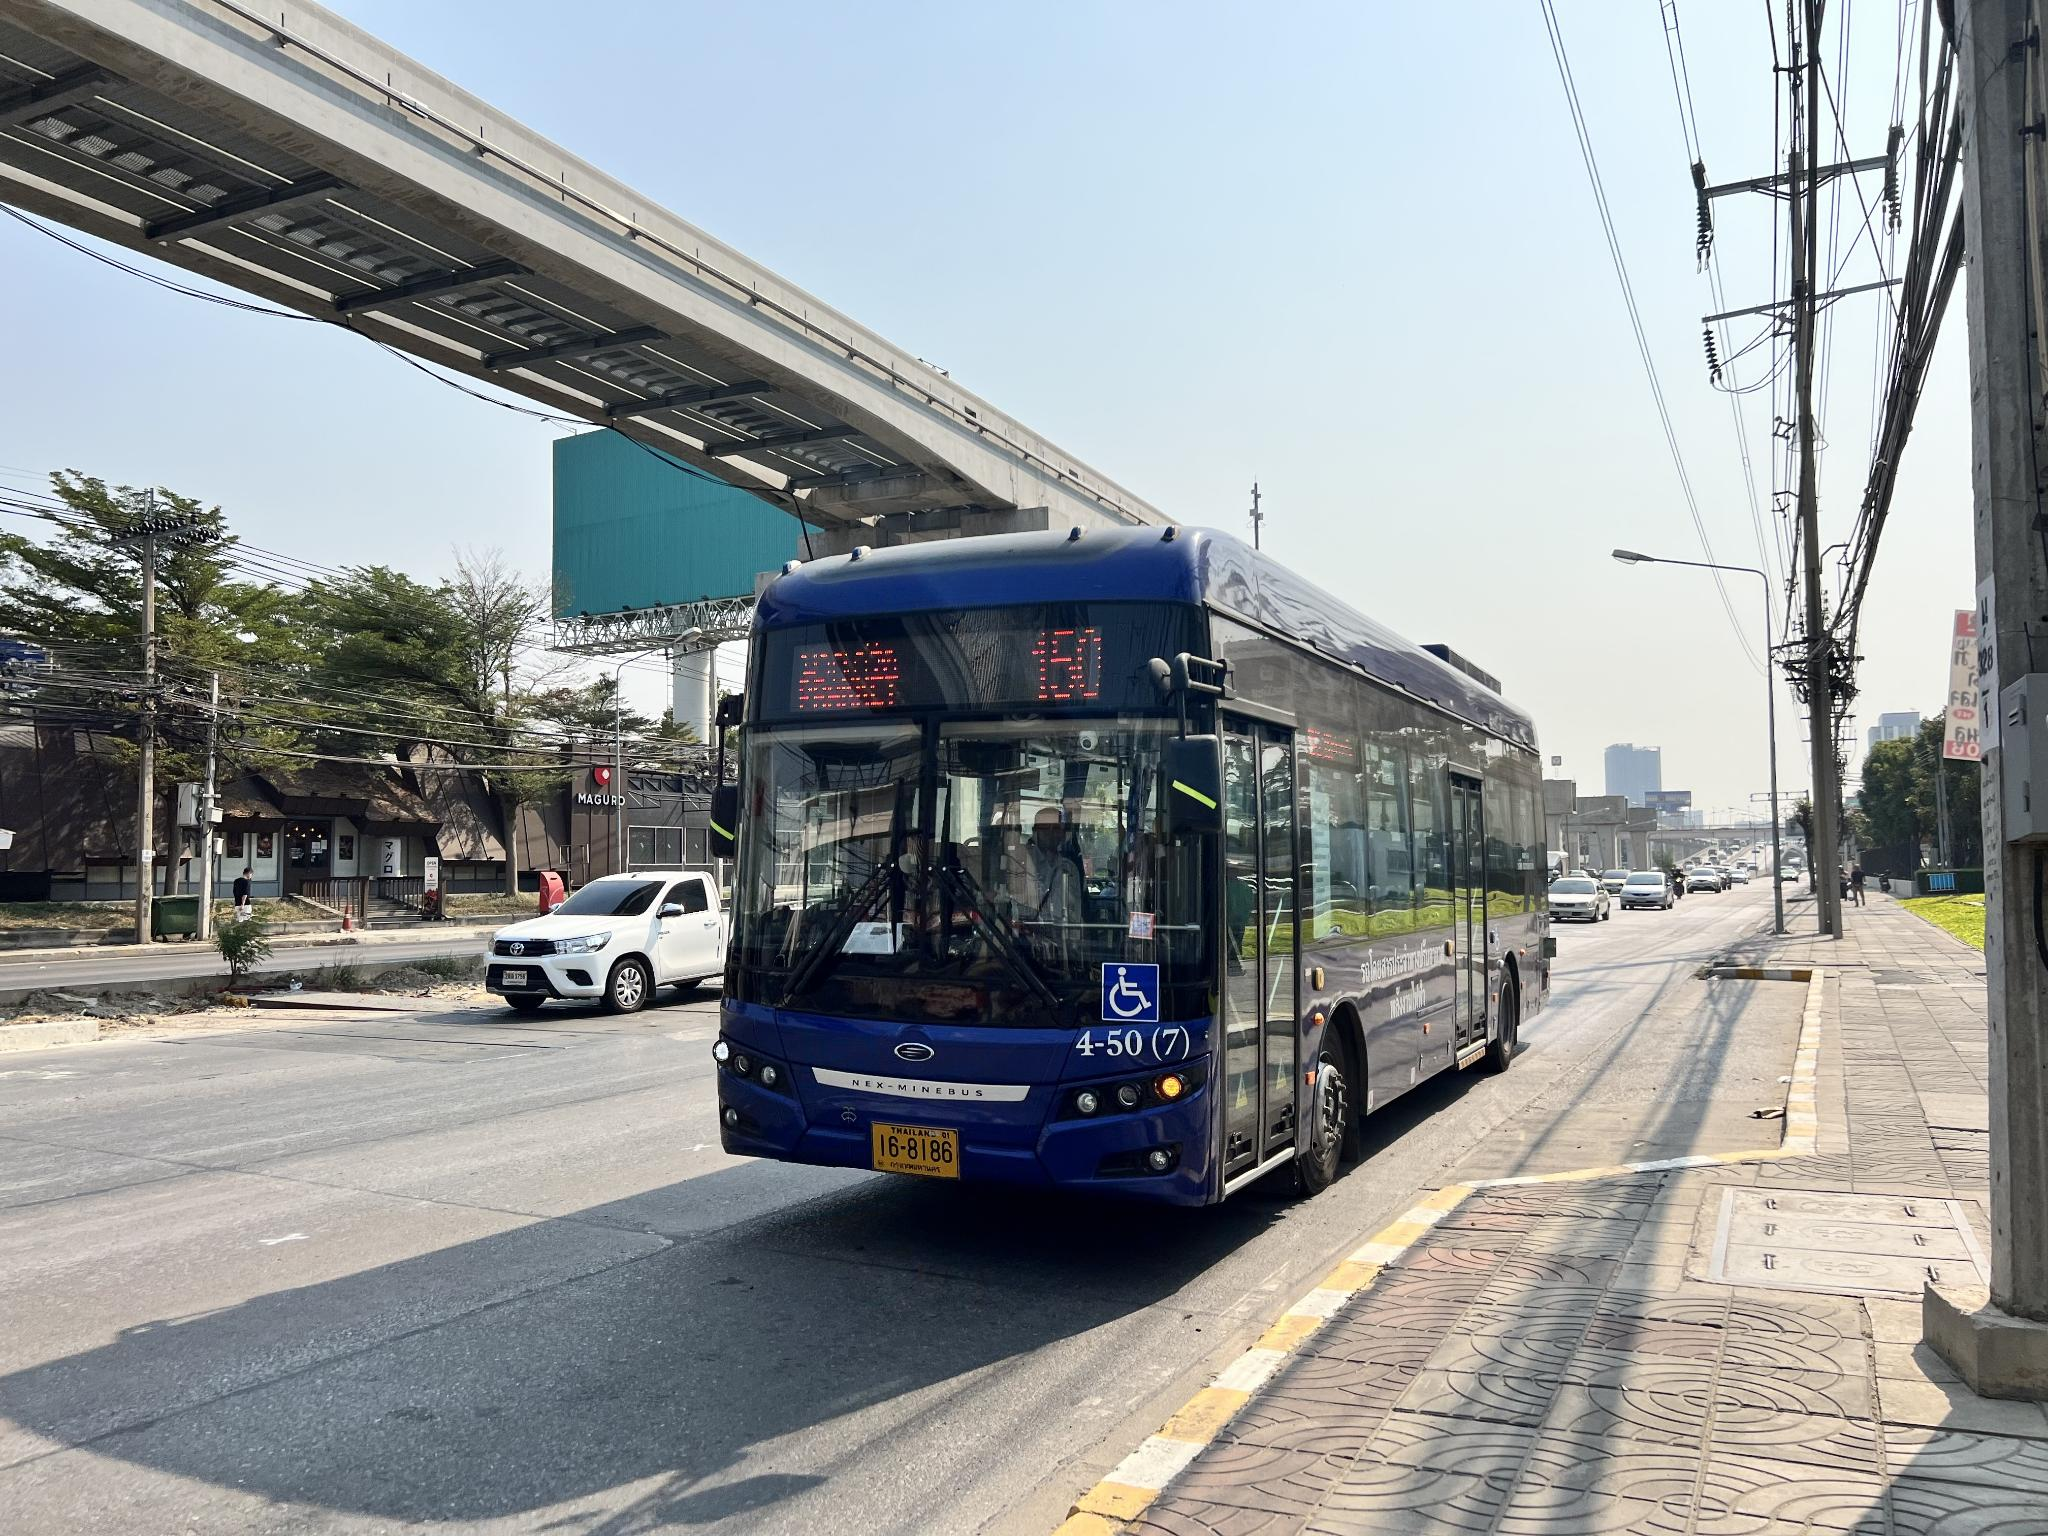Bus Line Number: (1018, 615, 1124, 713)
Bus Side Number: (1068, 1020, 1193, 1062)
Destination Sign: (785, 639, 905, 721)
TSB-Bus: (711, 526, 1555, 1215)
